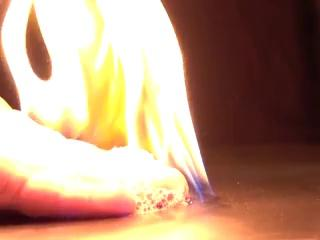Fire: (8, 1, 208, 206)
